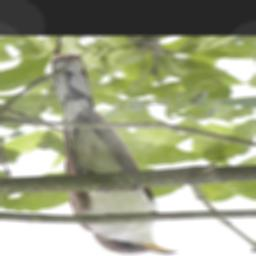Cuckoo: (51, 53, 179, 256)
